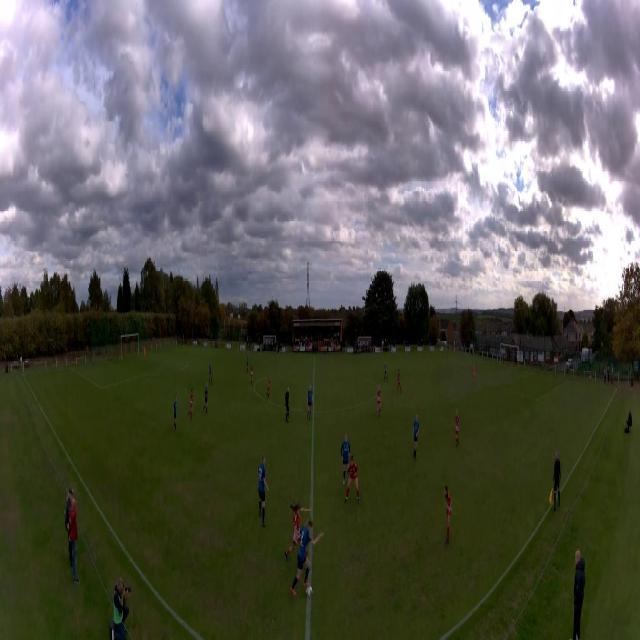ball: (306, 586, 313, 598)
player: (291, 517, 325, 595), (284, 503, 311, 560), (256, 453, 269, 528), (344, 455, 360, 503), (444, 485, 453, 544), (341, 433, 351, 485), (412, 413, 419, 460), (454, 410, 461, 448), (307, 384, 314, 421), (285, 386, 291, 423), (188, 388, 194, 420), (377, 386, 382, 418), (203, 382, 208, 414), (173, 396, 177, 434), (397, 369, 402, 394), (265, 377, 270, 401), (209, 359, 213, 385), (250, 362, 254, 387), (384, 361, 388, 382), (473, 363, 476, 384), (247, 355, 249, 373), (292, 345, 295, 357), (144, 345, 146, 362)
